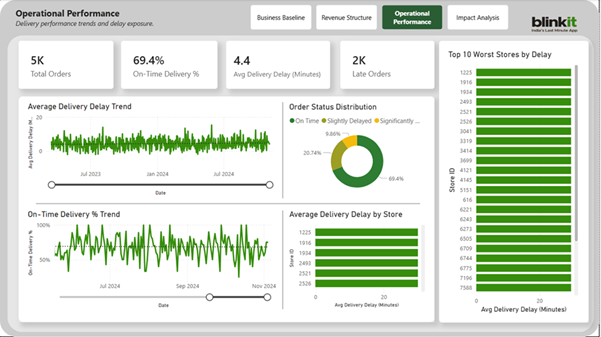

The page's visual inventory and layout, read from the dashboard file:
{"tool":"powerbi","page":{"name":"Operational Performance","canvas":[1280,720],"ordinal":2},"visuals":[{"type":"shape","box":[0,0,1280,719.7],"z":0},{"type":"shape","box":[16.6,76.3,1250.9,632.4],"z":1000},{"type":"textbox","box":[29.1,11.1,506.2,62.4],"z":2000},{"type":"image","box":[1121.9,0,124.8,106.8],"z":3000},{"type":"shape","box":[40.2,206.6,887.5,481.2],"z":4000},{"type":"cardVisual","fields":{"Data":["KPI_Measures.Total Orders"]},"box":[40.2,87.4,202.5,102.6],"z":5000},{"type":"cardVisual","fields":{"Data":["KPI_Measures.On-Time Delivery %"]},"box":[259.3,87.4,205.2,102.6],"z":6000},{"type":"cardVisual","fields":{"Data":["KPI_Measures.Avg Delivery Delay (Minutes)"]},"box":[484,87.4,221.9,102.6],"z":7000},{"type":"cardVisual","fields":{"Data":["KPI_Measures.Late Orders"]},"box":[726.7,87.4,201.1,102.6],"z":8000},{"type":"shape","box":[77.7,423,819.6,25],"z":9000},{"type":"lineChart","title":"On-Time Delivery % Trend","fields":{"Category":["DimDate.Date"],"Y":["KPI_Measures.% On-Time Delivery"]},"box":[55.5,447.9,547.8,215],"z":10000},{"type":"lineChart","title":"Average Delivery Delay Trend","fields":{"Category":["DimDate.Date"],"Y":["KPI_Measures.Avg Delivery Delay (Minutes)"]},"box":[55.5,217.7,547.8,205.2],"z":11000},{"type":"barChart","title":"Average Delivery Delay by Store","fields":{"Category":["FactOrderItems.store_id"],"Y":["KPI_Measures.Avg Delivery Delay (Minutes)"]},"box":[613,447.9,299.5,215],"z":12000},{"type":"donutChart","title":"Order Status Distribution","fields":{"Category":["FactOrderItems.delivery_status"],"Y":["KPI_Measures.Total Orders"]},"box":[613,219.1,299.5,203.9],"z":13000},{"type":"shape","box":[594.9,219.1,18,205.2],"z":14000},{"type":"shape","box":[937.2,87.5,318.8,600.4],"z":15000},{"type":"shape","box":[594.9,449.3,18,210.8],"z":16000},{"type":"barChart","title":"Top 10 Worst Stores by Delay","fields":{"Category":["FactOrderItems.store_id"],"Y":["KPI_Measures.Avg Delivery Delay (Minutes)"]},"box":[952.7,106.8,287.1,567.2],"z":17000},{"type":"pageNavigator","box":[535.6,11,553.9,53.8],"z":18000}]}

Visuals, with their boxes in screenshot pixels (x1, y1, x2, y2), scaled from the page's 1280x720 canvas onto the 601x337 screenshot:
shape: [left=0, top=0, right=600, bottom=336]
shape: [left=8, top=36, right=595, bottom=332]
textbox: [left=14, top=5, right=251, bottom=34]
image: [left=527, top=0, right=585, bottom=50]
shape: [left=19, top=97, right=436, bottom=322]
cardVisual - KPI_Measures.Total Orders: [left=19, top=41, right=114, bottom=89]
cardVisual - KPI_Measures.On-Time Delivery %: [left=122, top=41, right=218, bottom=89]
cardVisual - KPI_Measures.Avg Delivery Delay (Minutes): [left=227, top=41, right=331, bottom=89]
cardVisual - KPI_Measures.Late Orders: [left=341, top=41, right=436, bottom=89]
shape: [left=36, top=198, right=421, bottom=210]
"On-Time Delivery % Trend" lineChart: [left=26, top=210, right=283, bottom=310]
"Average Delivery Delay Trend" lineChart: [left=26, top=102, right=283, bottom=198]
"Average Delivery Delay by Store" barChart: [left=288, top=210, right=428, bottom=310]
"Order Status Distribution" donutChart: [left=288, top=103, right=428, bottom=198]
shape: [left=279, top=103, right=288, bottom=199]
shape: [left=440, top=41, right=590, bottom=322]
shape: [left=279, top=210, right=288, bottom=309]
"Top 10 Worst Stores by Delay" barChart: [left=447, top=50, right=582, bottom=315]
pageNavigator: [left=251, top=5, right=512, bottom=30]
